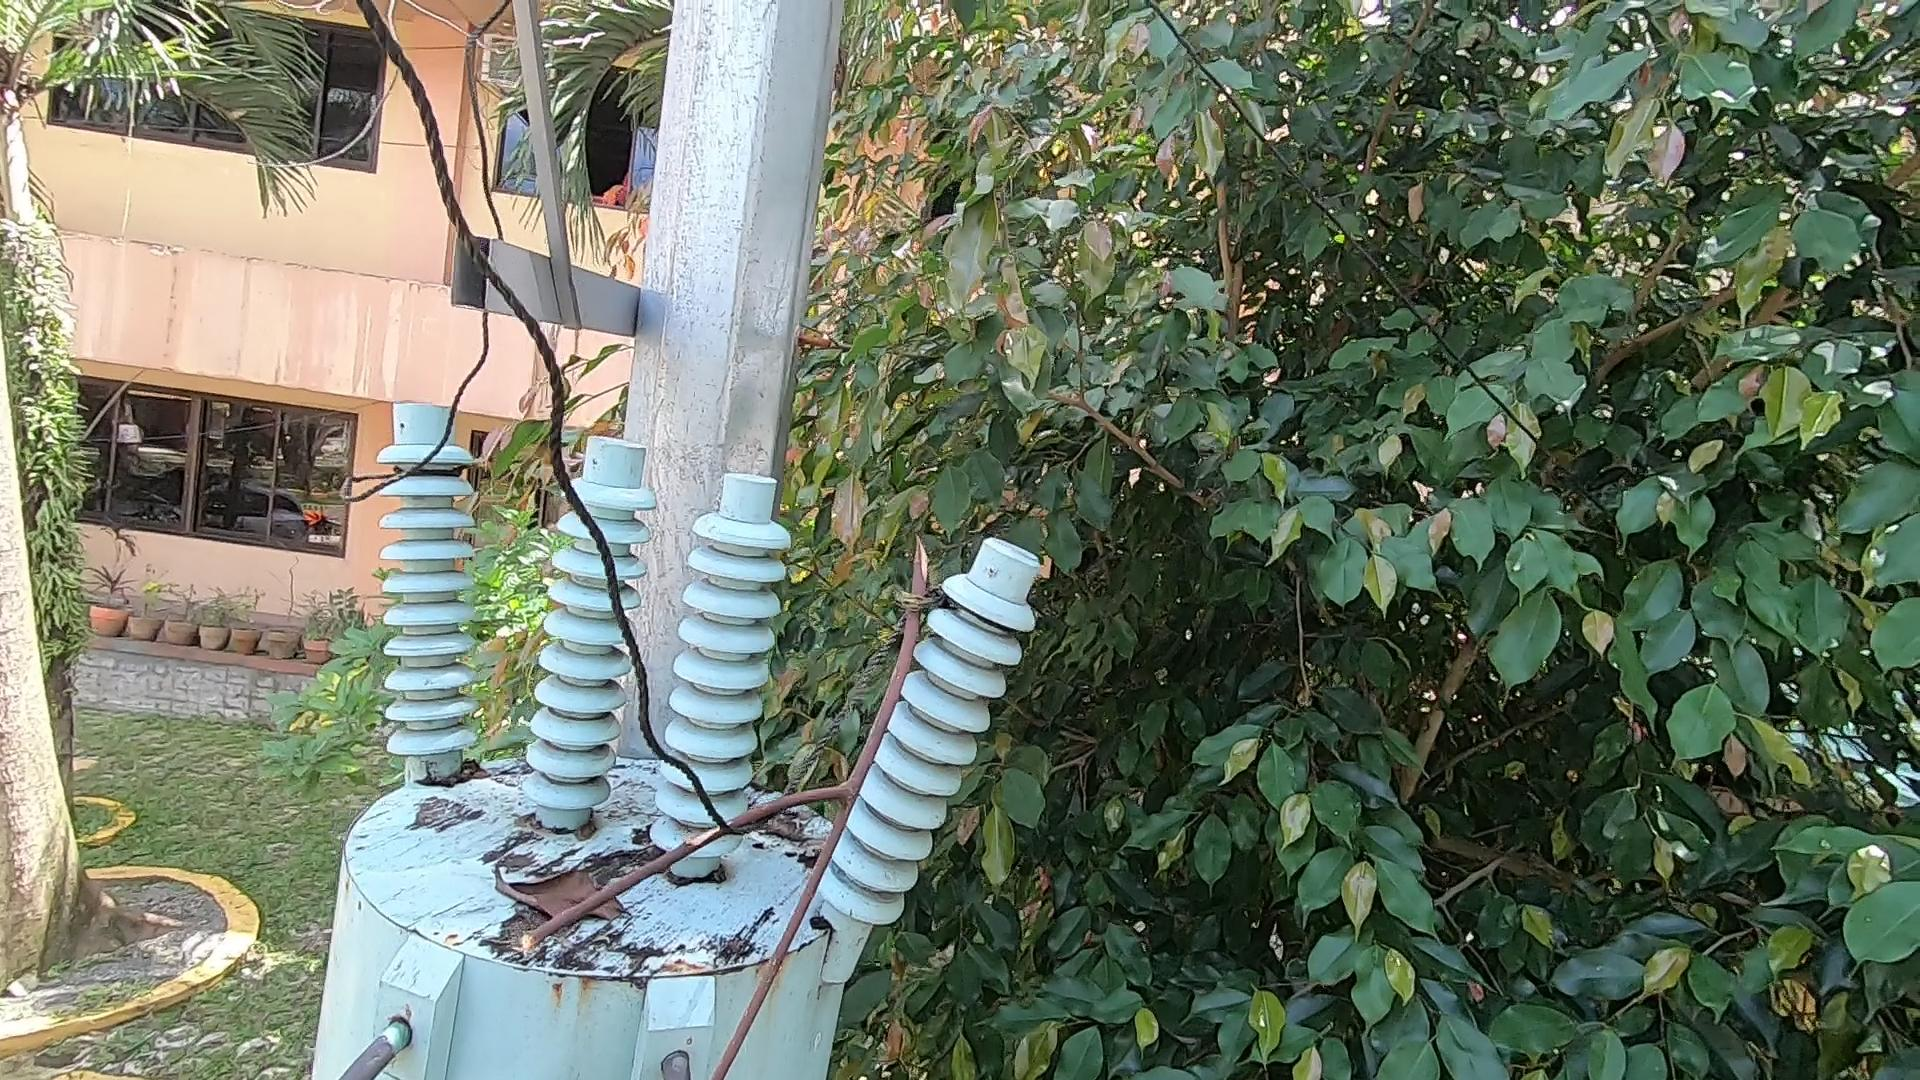leaf: (488, 852, 642, 942)
tree branch: (488, 524, 972, 1080)
